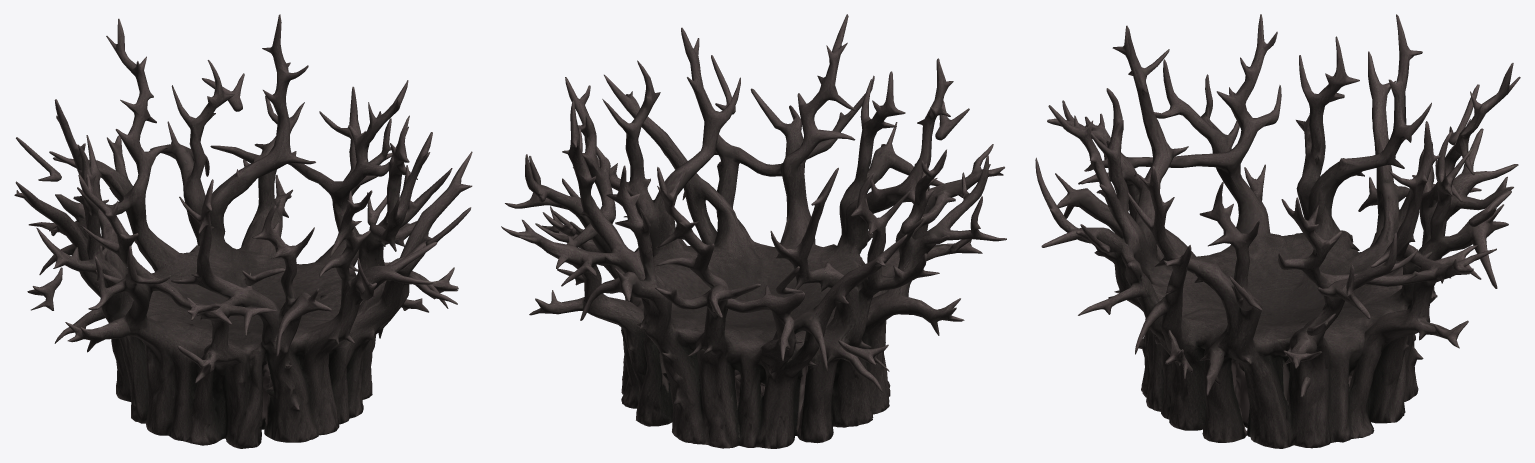
File: ee_crown_of_thorns.glb
3 renders of one model, left to right at view 1: azimuth 30°, elevation 25°; view 2: azimuth 150°, elevation 25°; view 3: azimuth 270°, elevation 25°, orthographic. The views are drawn at different scales.
Size of the model in its own units: 1.91 by 1.41 by 1.9.
1 material, 1 textured.
